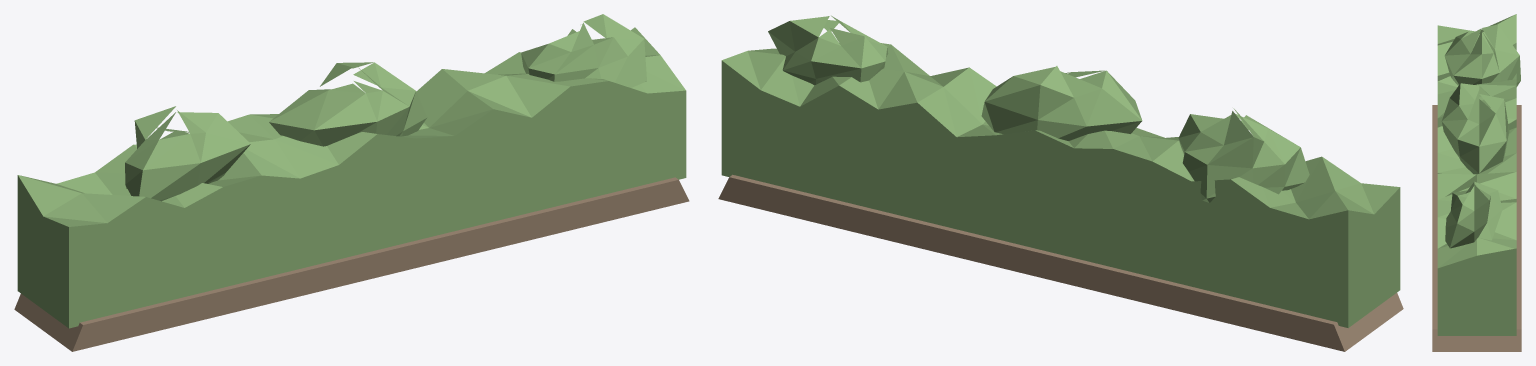
File: arable-fields-and-farm-machinery-hedgerow-run-9ccfff4c__16883.glb
3 renders of one model, left to right at view 1: azimuth 30°, elevation 25°; view 2: azimuth 150°, elevation 25°; view 3: azimuth 270°, elevation 25°, orthographic. The views are drawn at different scales.
Parts seen in each view (by area): view 1: hedgerow-run; view 2: hedgerow-run; view 3: hedgerow-run.
Part boxes in pixels (left/top/right/bottom): hedgerow-run: left=14, top=14, right=689, bottom=351; hedgerow-run: left=718, top=15, right=1403, bottom=351; hedgerow-run: left=1432, top=14, right=1521, bottom=351.
Size of the model in its own units: 8 by 2.37 by 1.3.
